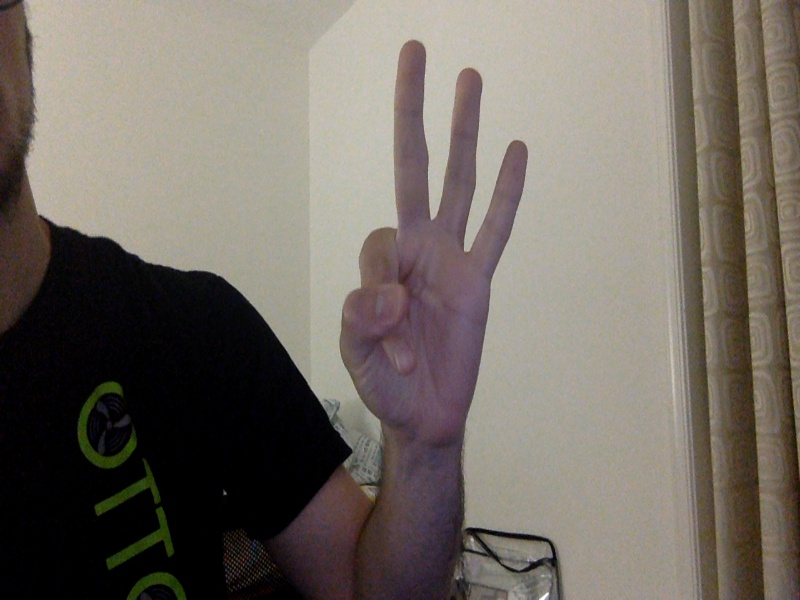3-hand: (339, 39, 531, 438)
